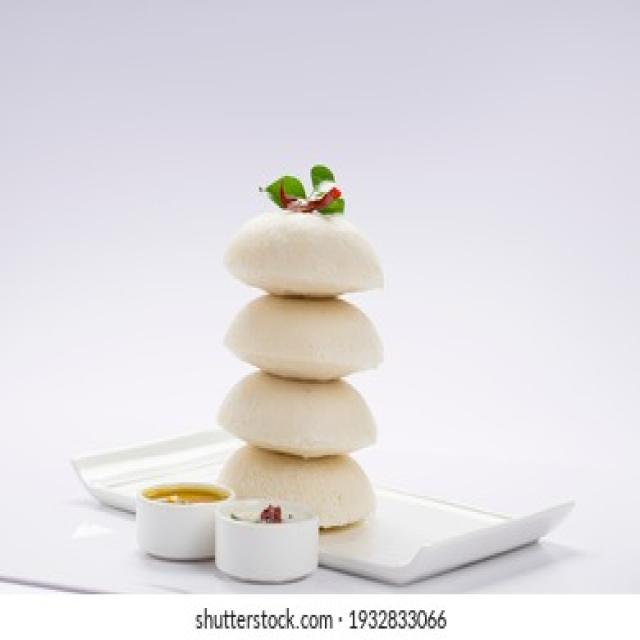IDLI: (225, 213, 382, 295), (225, 295, 381, 377), (220, 446, 374, 528), (220, 373, 374, 453)
